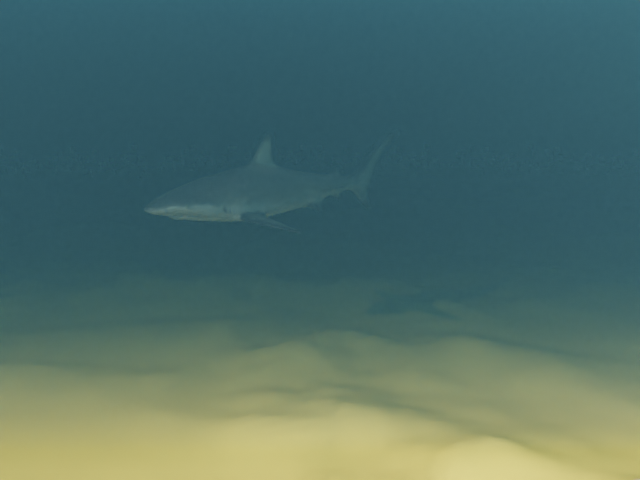Carribean Shark.001: (143, 132, 396, 232)
